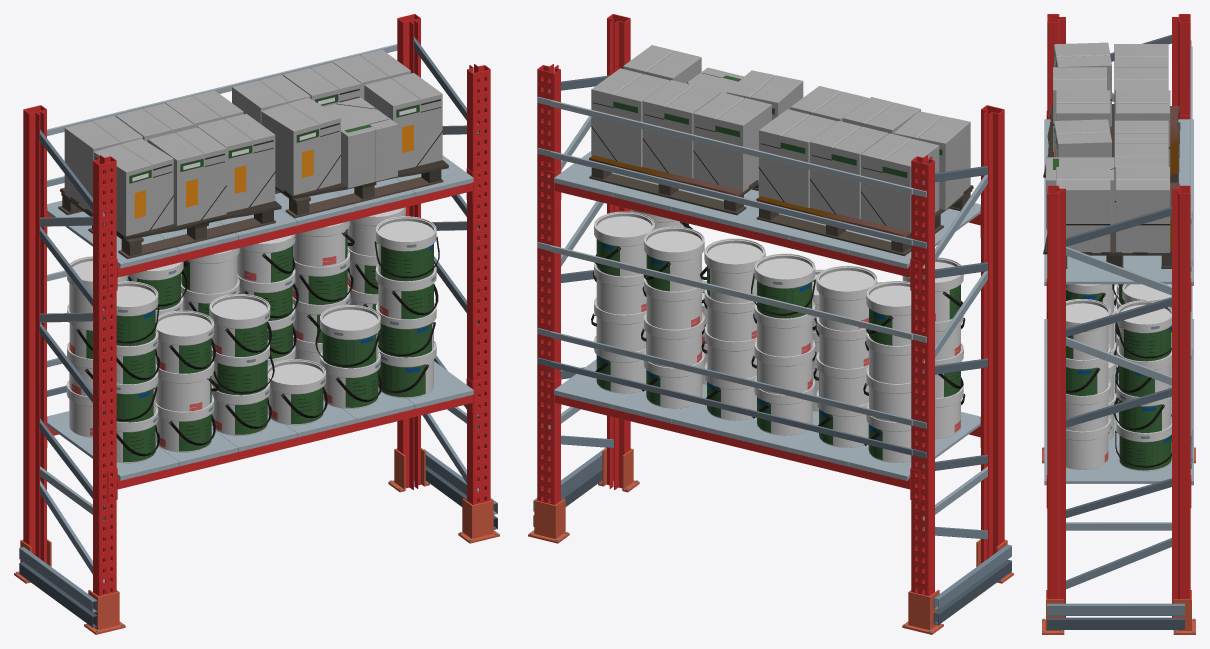
The model's file is SM_Aisle_Red_D.fbx.
The picture shows the model from 3 angles, left to right: view 1: azimuth 30°, elevation 25°; view 2: azimuth 150°, elevation 25°; view 3: azimuth 270°, elevation 25°; orthographic projection. The views are drawn at different scales.
Parts seen in each view (by area): view 1: SM_Aisle_Red_D; view 2: SM_Aisle_Red_D; view 3: SM_Aisle_Red_D.
Boxes of the visible parts, x1,y1,x2,y2 form: SM_Aisle_Red_D: [14, 14, 499, 634]; SM_Aisle_Red_D: [528, 14, 1013, 634]; SM_Aisle_Red_D: [1042, 14, 1195, 634].
Bounding box in the file's own units: 336 × 370 × 118.
